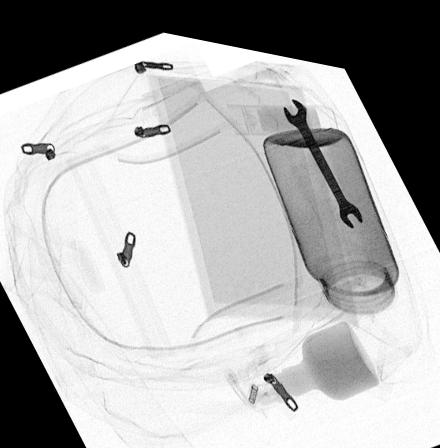Wrench: (282, 86, 363, 213)
